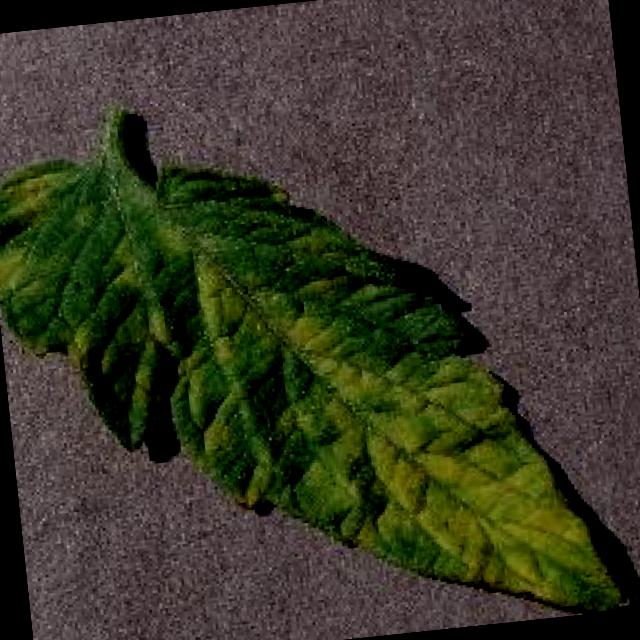leaf mold: (0, 111, 628, 611)
